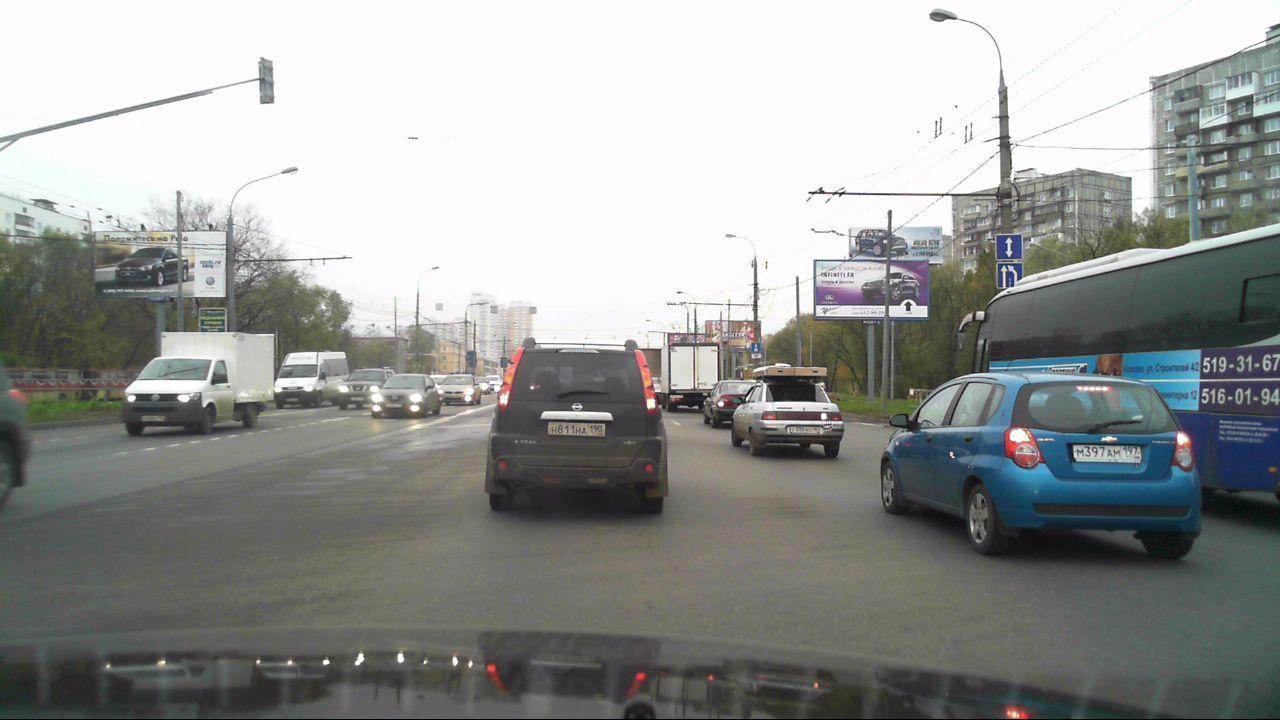5_14_1: (750, 342, 762, 352)
5_15_5: (995, 263, 1021, 289)
5_8: (994, 234, 1021, 260)
8_5_2: (751, 352, 762, 360)
